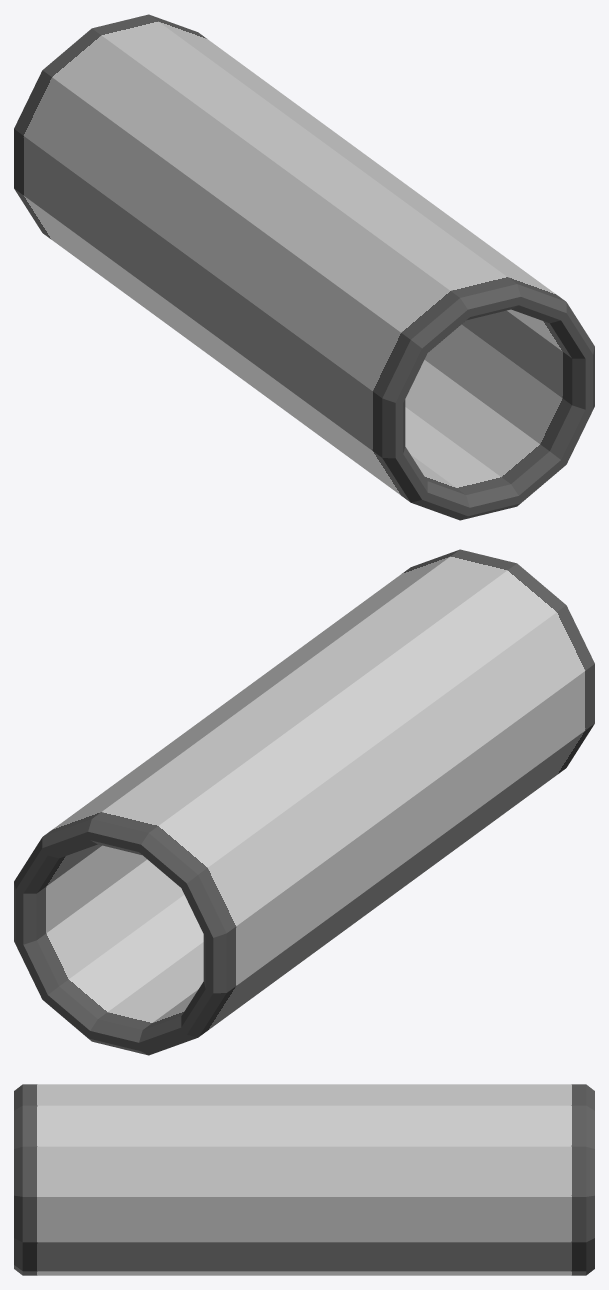
File: pipe.gltf
3 views of the same model, one above another, from view 1: azimuth 30°, elevation 25°; view 2: azimuth 150°, elevation 25°; view 3: azimuth 270°, elevation 25° (orthographic). The views are drawn at different scales.
Parts seen in each view (by area): view 1: Pipe; view 2: Pipe; view 3: Pipe.
Boxes of the visible parts, x1,y1,x2,y2 form: Pipe: (14,14,594,520); Pipe: (14,549,594,1055); Pipe: (14,1084,594,1275).
Bounding box in the file's own units: 1 × 1 × 3.09.
Materials: 1 (1 with a texture image).
